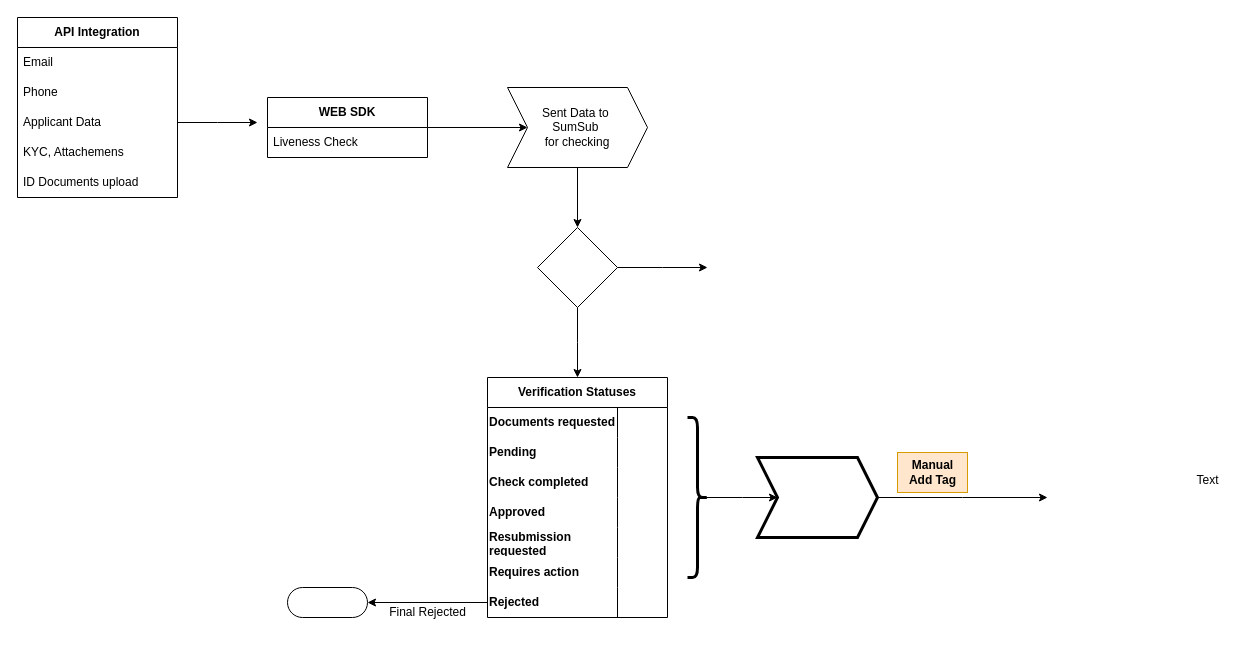
Image size: 1245x645. Some labels were removed from this diagram. The shapes that lost their labels are listed below. From the top down, each one's centre as x and y in pixels, then its label:
the point at 577,267: Result
the point at 817,497: AML Manual Check
the point at 327,602: End
